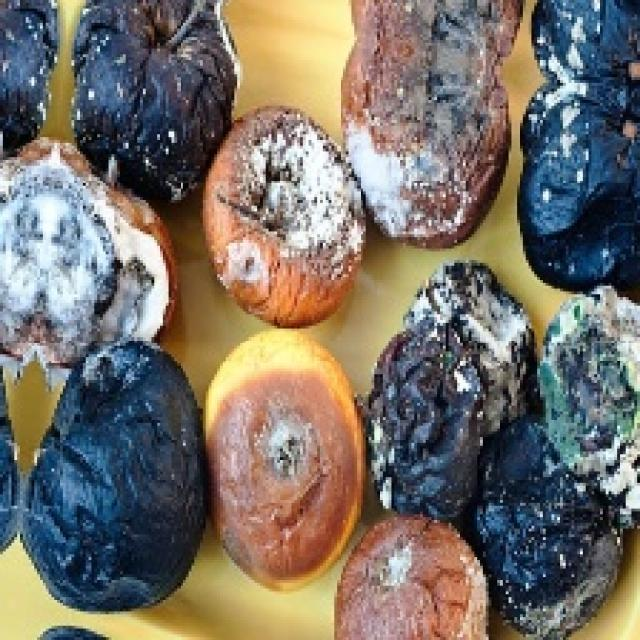rotten_apple: (45, 348, 208, 602), (212, 335, 359, 586), (206, 113, 362, 325), (350, 50, 508, 239), (76, 0, 229, 184), (499, 430, 627, 628), (521, 125, 639, 285), (380, 337, 490, 506), (337, 520, 488, 632)
